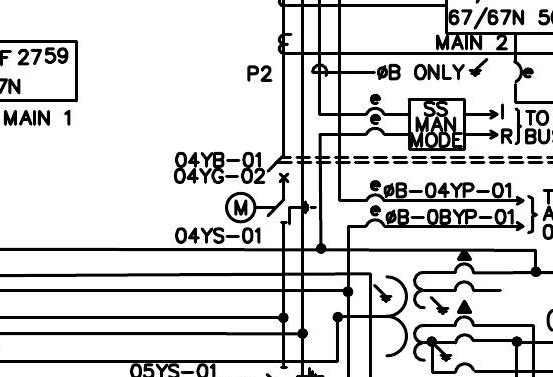115_3ways_ds_w_motor: (224, 191, 318, 226)
115_breaker: (266, 154, 290, 184)
115_vt_1p: (372, 249, 476, 363)
ss_man_mode: (407, 97, 467, 152)
